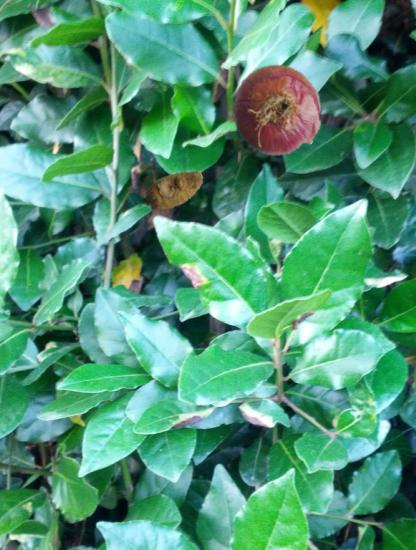Ginger: (145, 159, 206, 220)
Onion: (231, 64, 326, 159)
